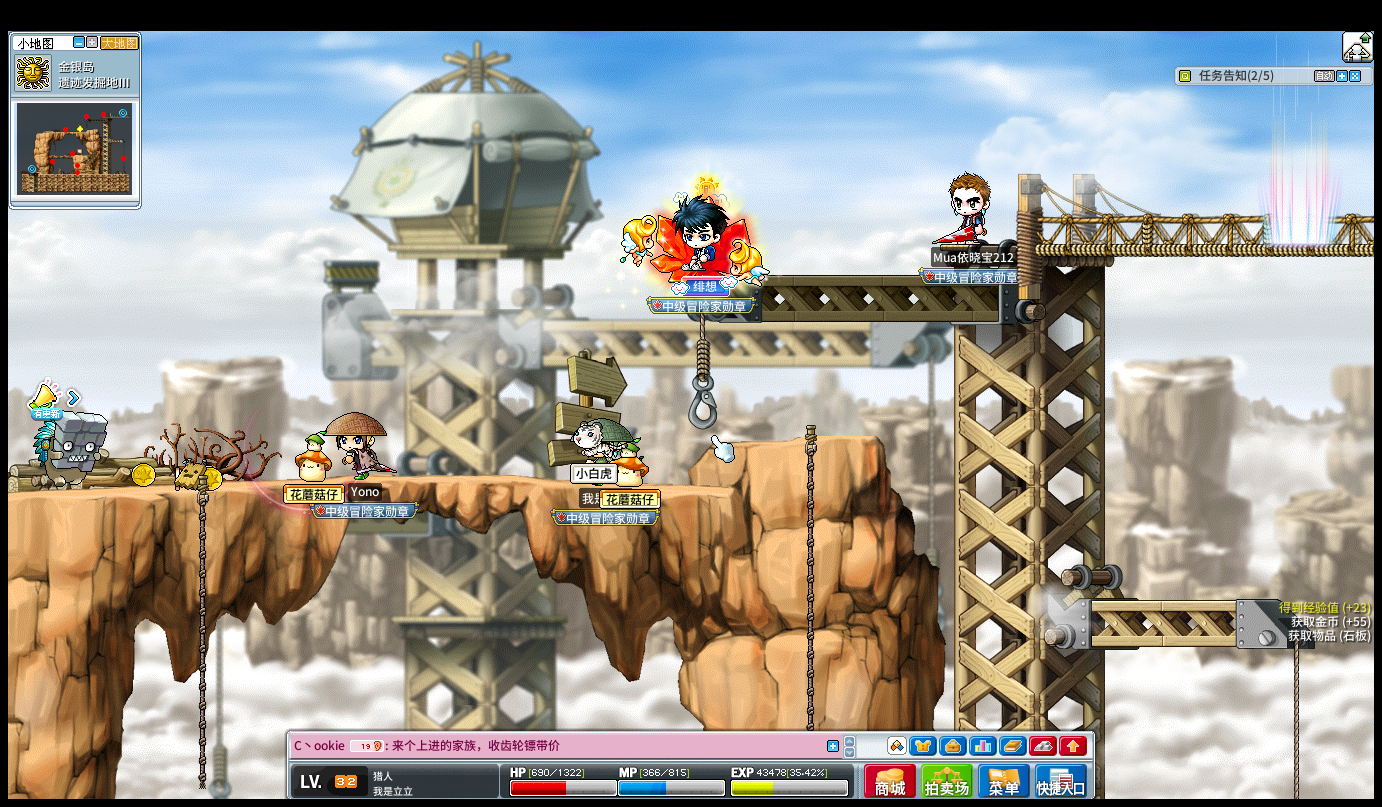floor: (11, 469, 770, 495), (48, 472, 764, 491), (729, 433, 875, 447)
monster: (33, 408, 107, 492)
rope: (193, 469, 207, 800), (802, 427, 817, 726), (1289, 644, 1303, 791)
